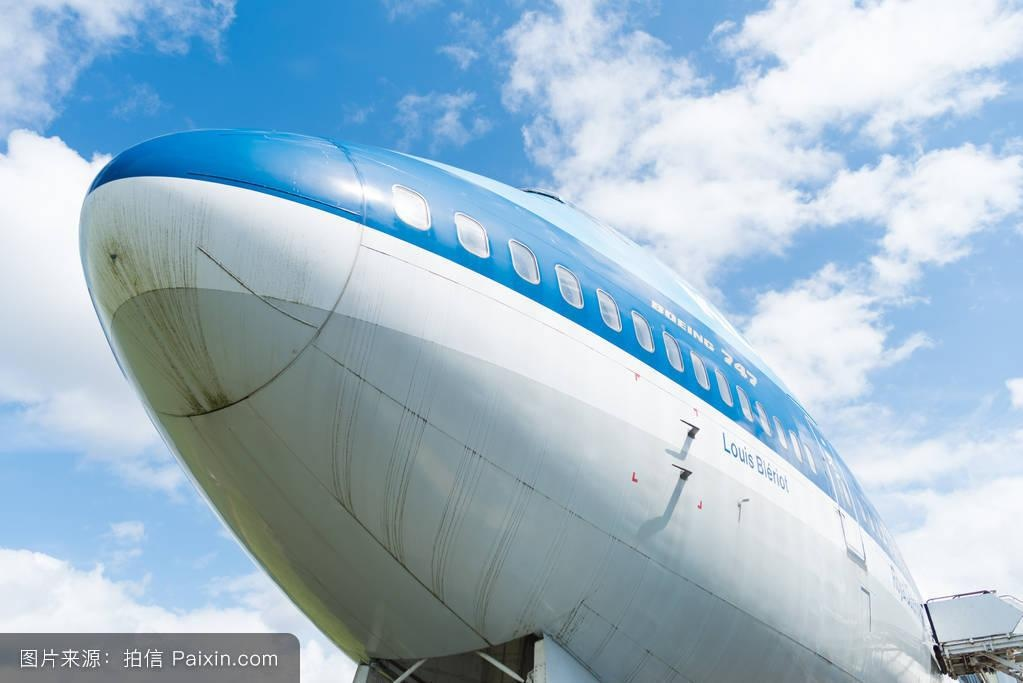airplane: (73, 120, 1023, 683)
